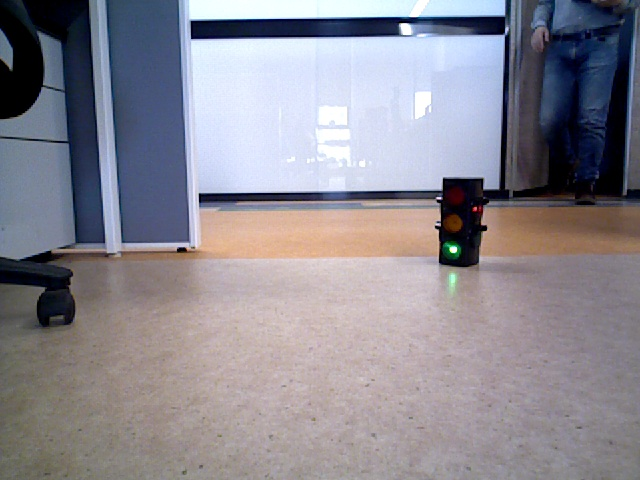green: (442, 180, 479, 262)
